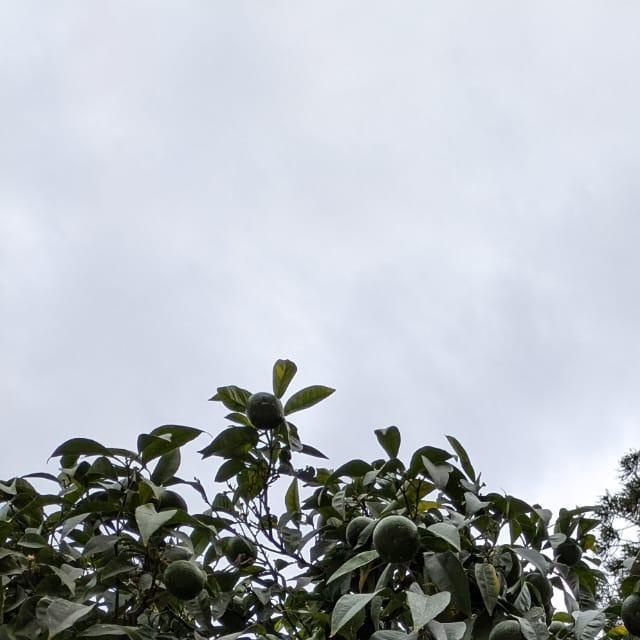orange: (374, 514, 422, 566), (339, 509, 389, 555), (248, 388, 288, 434), (159, 557, 203, 597), (216, 531, 258, 567), (553, 535, 581, 575), (484, 617, 526, 640), (620, 590, 640, 638), (253, 632, 283, 640)
